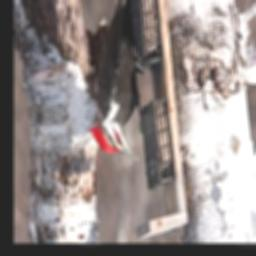Woodpecker: (88, 0, 150, 164)
